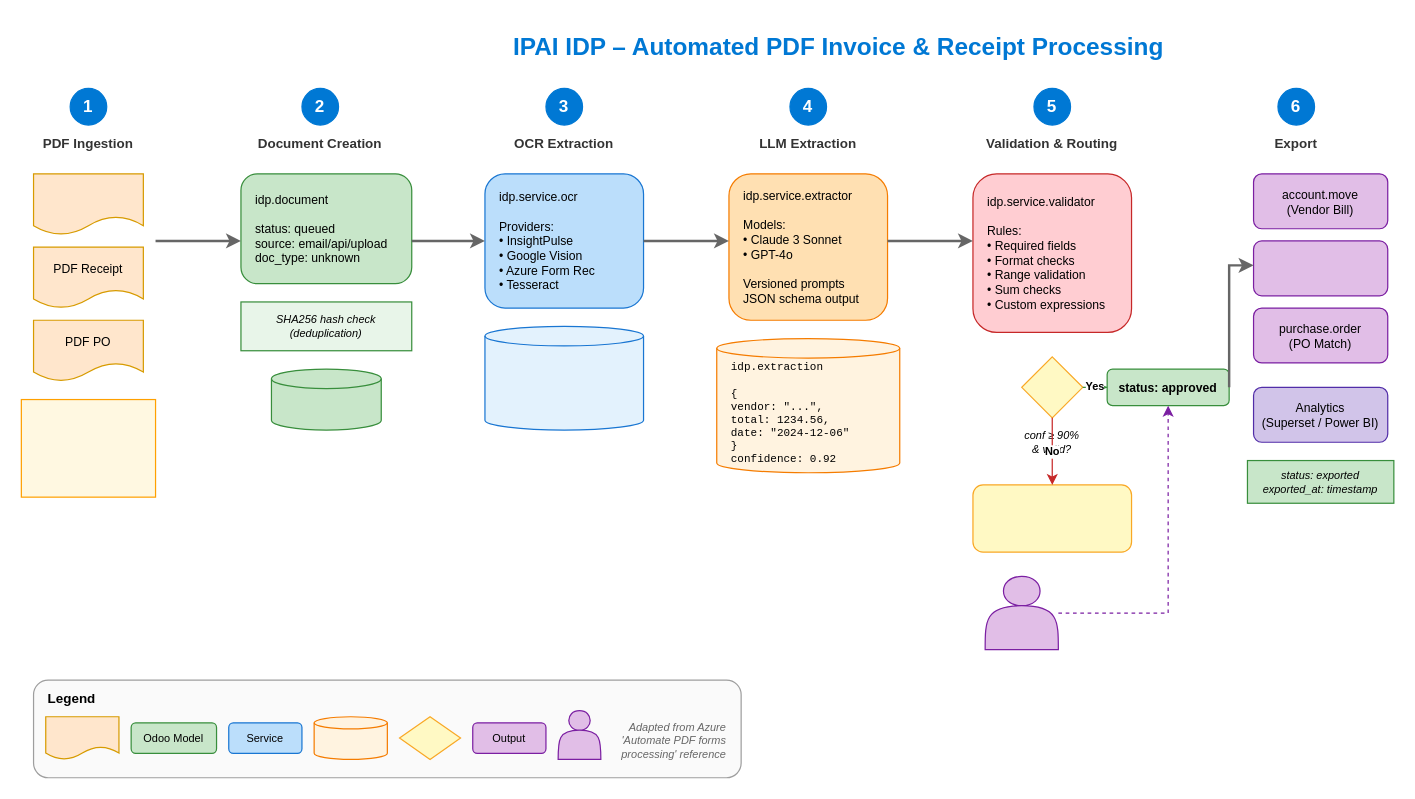
This 1415x799 diagram has some shape labels left out. The shapes that lost their labels are listed below. From the top down, each one's centre as x and y in pixels, then its label:
point (87, 204): PDF Invoice
point (1320, 268): hr.expense (Expense)
point (564, 377): idp.document.ocr raw_text: "..." confidence: 0.95 bounding_boxes: [...]
point (325, 399): ir.attachment (file storage)
point (88, 447): Sources: • Email (fetchmail) • Upload (UI) • API (/documents) • Mobile capture
point (1052, 518): status: review_needed idp.review created
point (1021, 612): Human Review (Corrections)
point (82, 737): Document
point (350, 737): Data Store
point (429, 737): Decision
point (579, 734): Human
